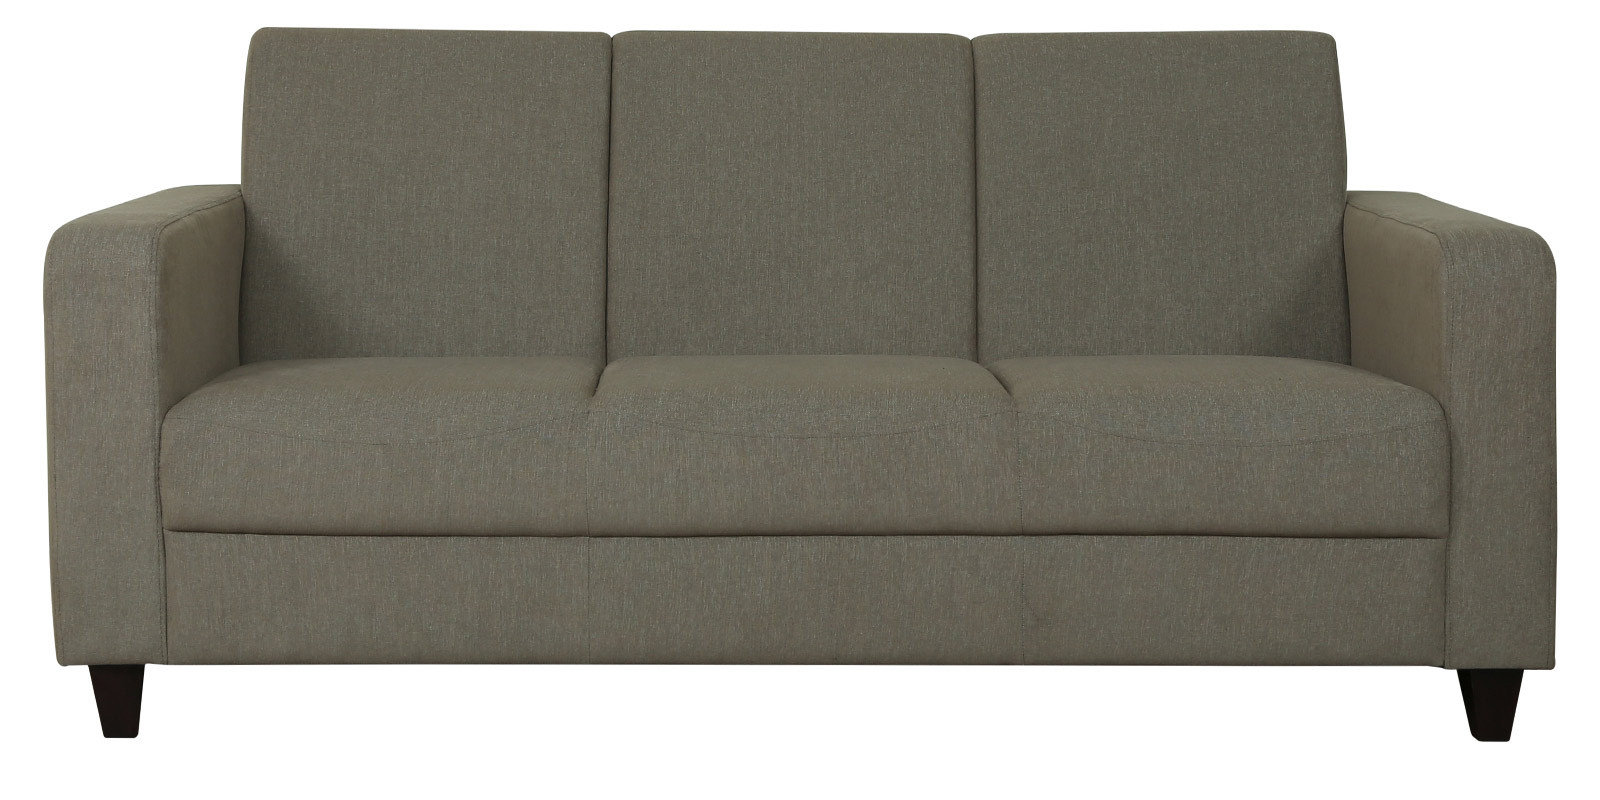Alba Three Seater Sofa in Sandy Brown Colour by CasaCraft: (27, 16, 1566, 752)
